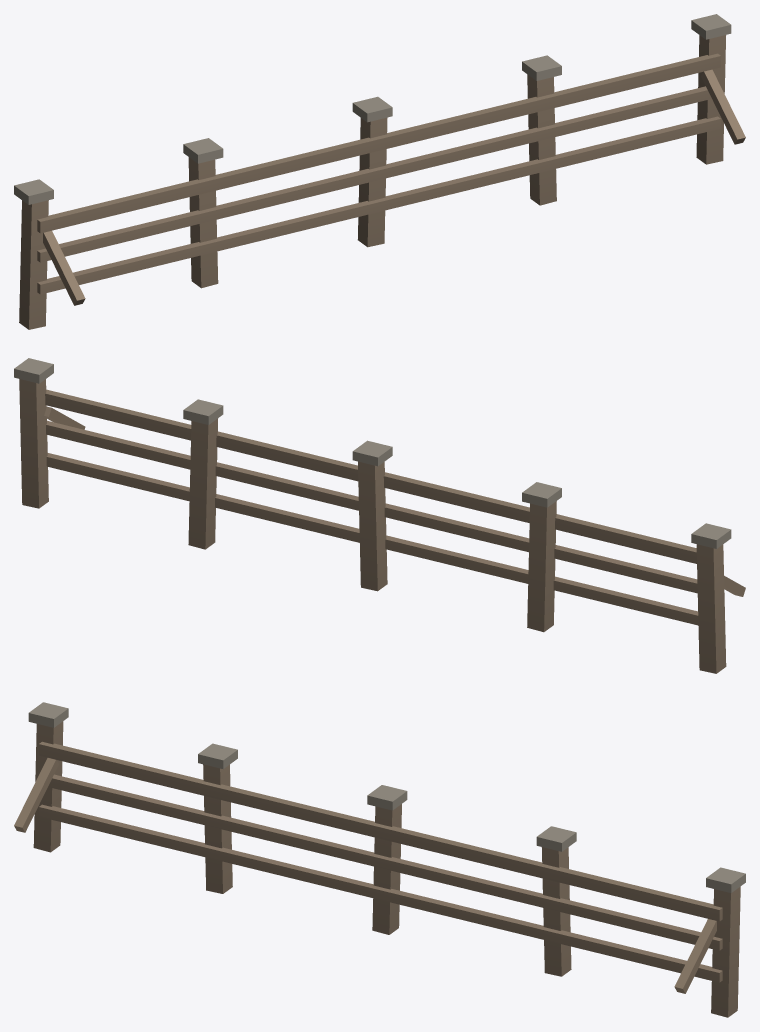
The model's file is fence.glb.
3 renders of one model, top to bottom at view 1: azimuth 30°, elevation 25°; view 2: azimuth 150°, elevation 25°; view 3: azimuth 330°, elevation 25°, orthographic.
Visible parts, largest first — view 1: fence; view 2: fence; view 3: fence.
Boxes of the visible parts, x1=… form: fence: x1=14, y1=14, x2=745, y2=329; fence: x1=14, y1=358, x2=745, y2=673; fence: x1=14, y1=702, x2=745, y2=1017.
Bounding box in the file's own units: 8.3 × 1.54 × 0.945.
